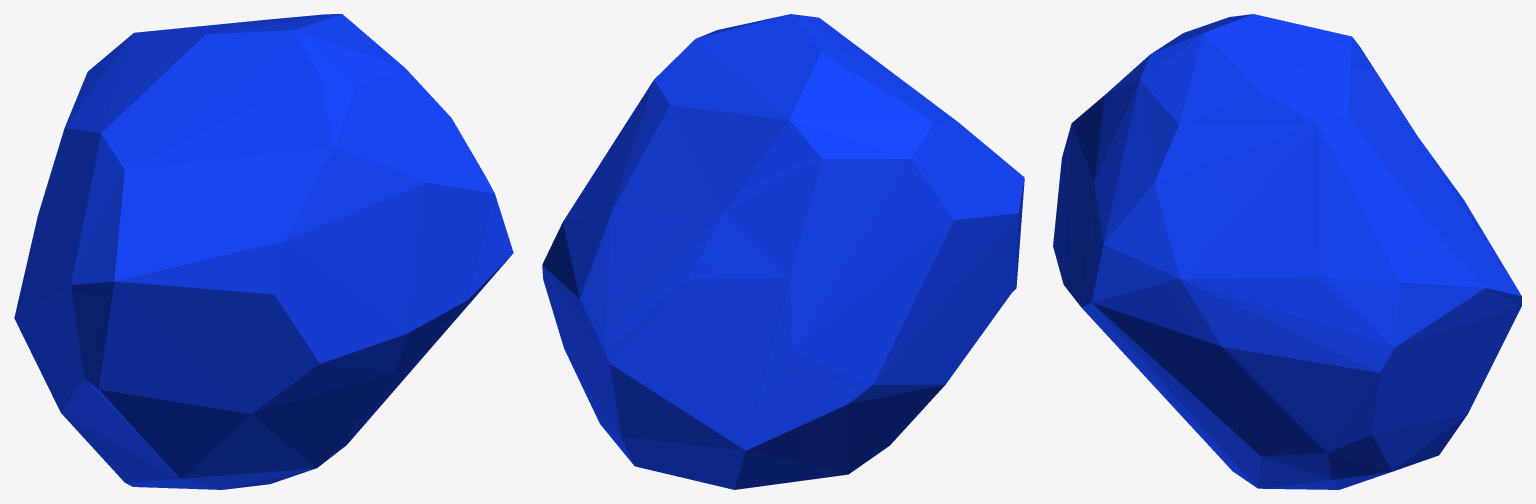
The model's file is SM_emissive_rock_09.fbx.
The picture shows the model from 3 angles, left to right: view 1: azimuth 30°, elevation 25°; view 2: azimuth 150°, elevation 25°; view 3: azimuth 270°, elevation 25°; orthographic projection. The views are drawn at different scales.
Visible parts, largest first — view 1: emissive_rock_09; view 2: emissive_rock_09; view 3: emissive_rock_09.
Part boxes in pixels (x1,y1,x2,y2): emissive_rock_09: (14,14,513,489); emissive_rock_09: (542,14,1024,489); emissive_rock_09: (1053,14,1521,489).
Bounding box in the file's own units: 127 × 137 × 131.
